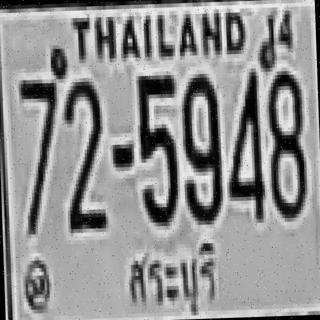N02: (62, 77, 105, 229)
N04: (223, 68, 263, 220)
N05: (136, 71, 179, 222)
N07: (17, 77, 60, 232), (17, 75, 58, 182)
N08: (265, 68, 306, 216)
N09: (178, 70, 221, 221)
P60: (121, 230, 224, 319)
